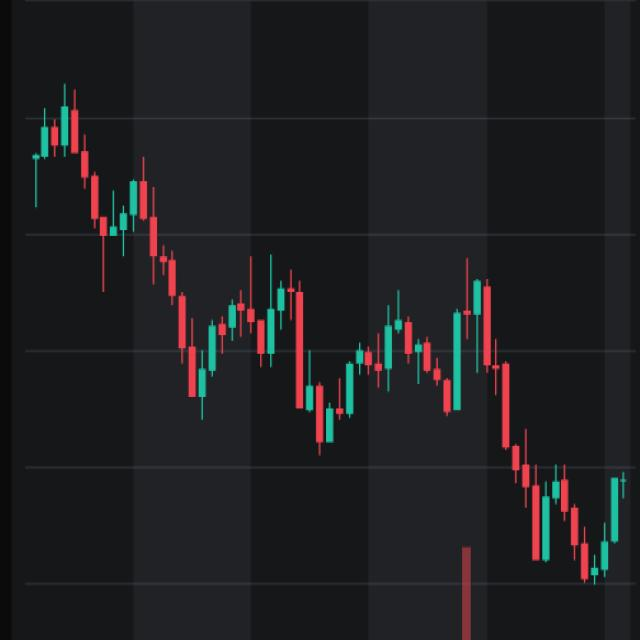rectangle: (172, 259, 513, 458)
